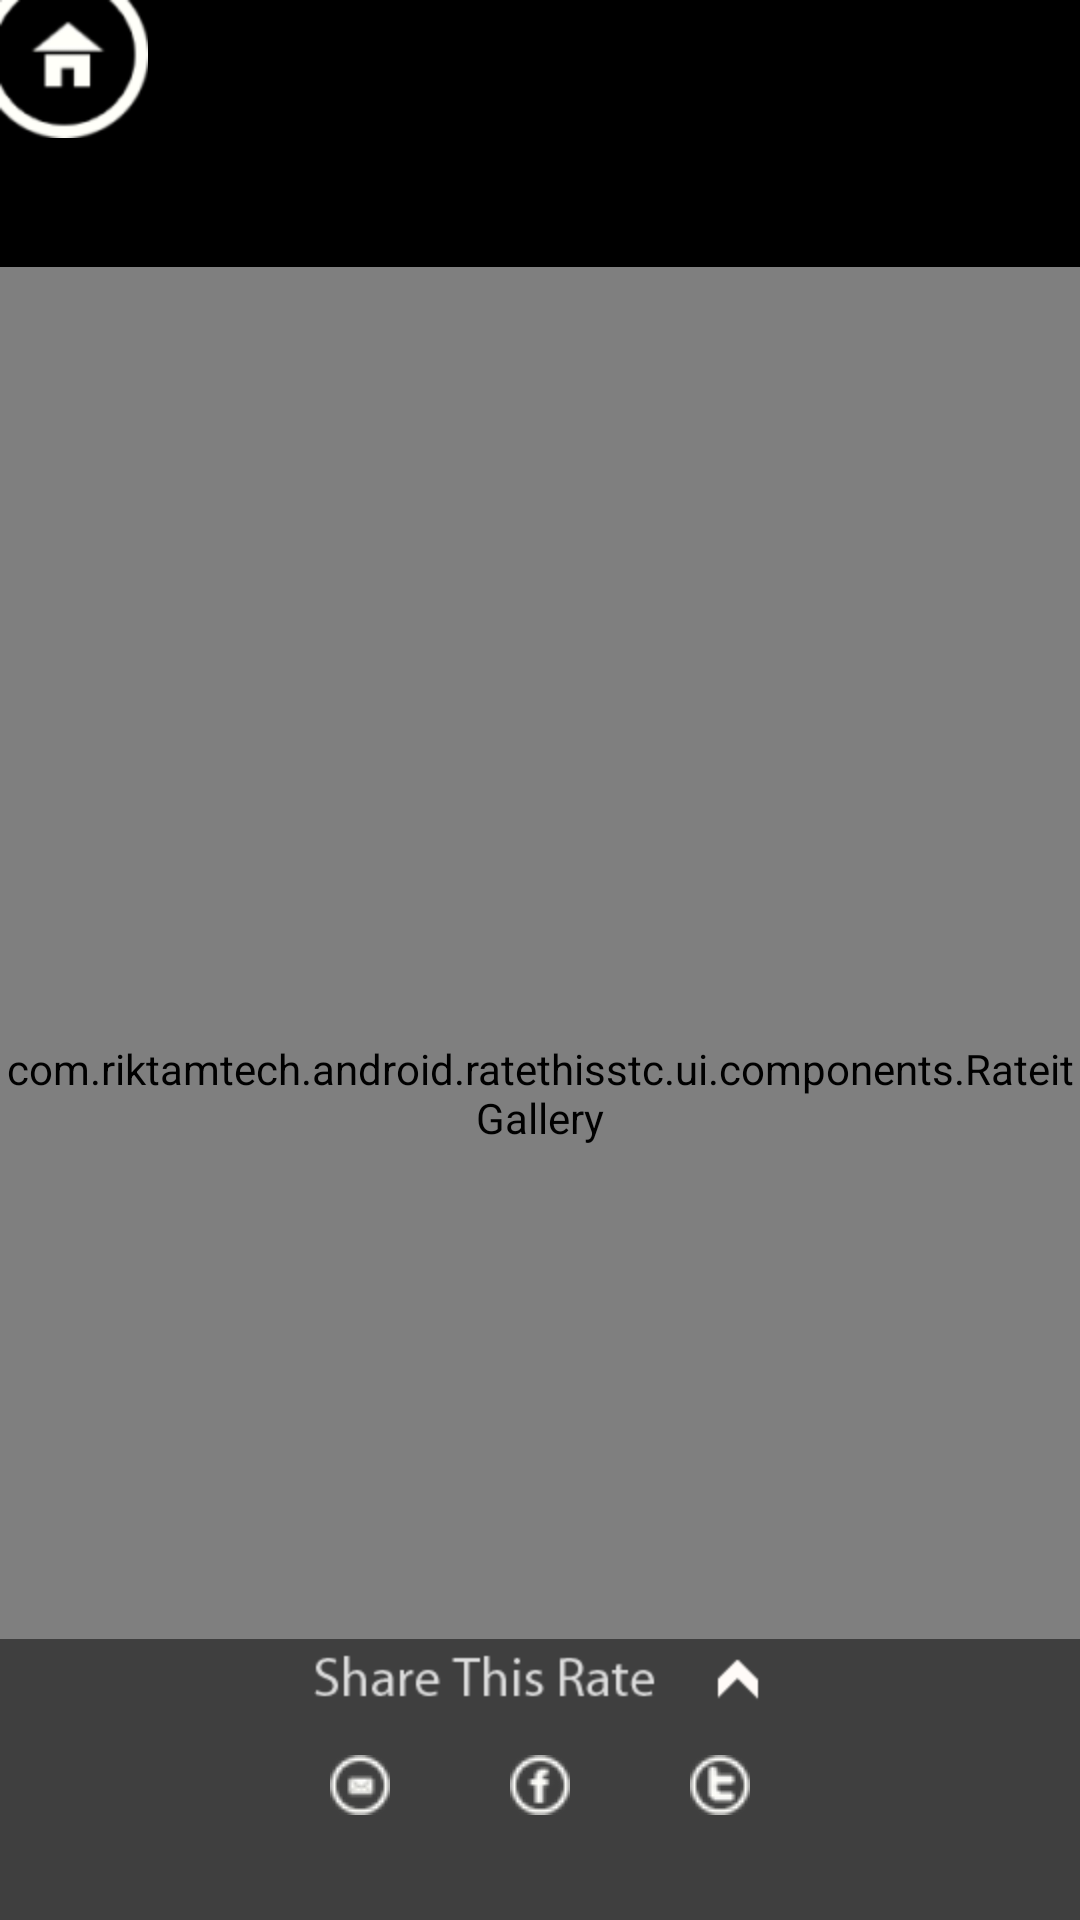

Icon bounding boxes for this 1080px×1920px phone screenshot, format BBox(x1, y1, x2, y2):
email: BBox(330, 1755, 390, 1815)
